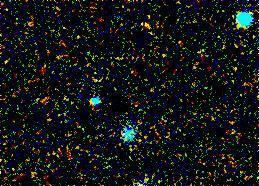star: (133, 18, 163, 48)
